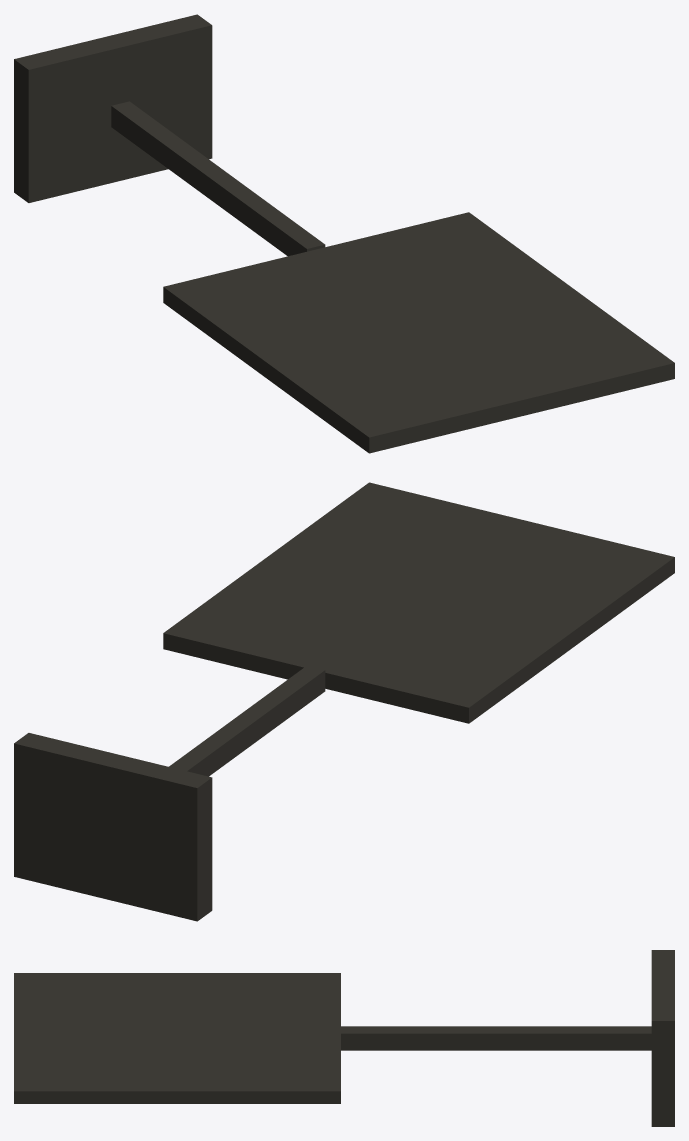
File: pz_g017_sale.obj
The picture shows the model from 3 angles, top to bottom: view 1: azimuth 30°, elevation 25°; view 2: azimuth 150°, elevation 25°; view 3: azimuth 270°, elevation 25°; orthographic projection. The views are drawn at different scales.
Parts seen in each view (by area): view 1: pz_g017_sale; view 2: pz_g017_sale; view 3: pz_g017_sale.
Part boxes in pixels (<box>): pz_g017_sale: <box>14,14,674,453</box>; pz_g017_sale: <box>14,482,674,921</box>; pz_g017_sale: <box>14,950,674,1126</box>.
Bounding box in the file's own units: 0.6 × 0.25 × 1.42.
Materials: 1 (1 with a texture image).
